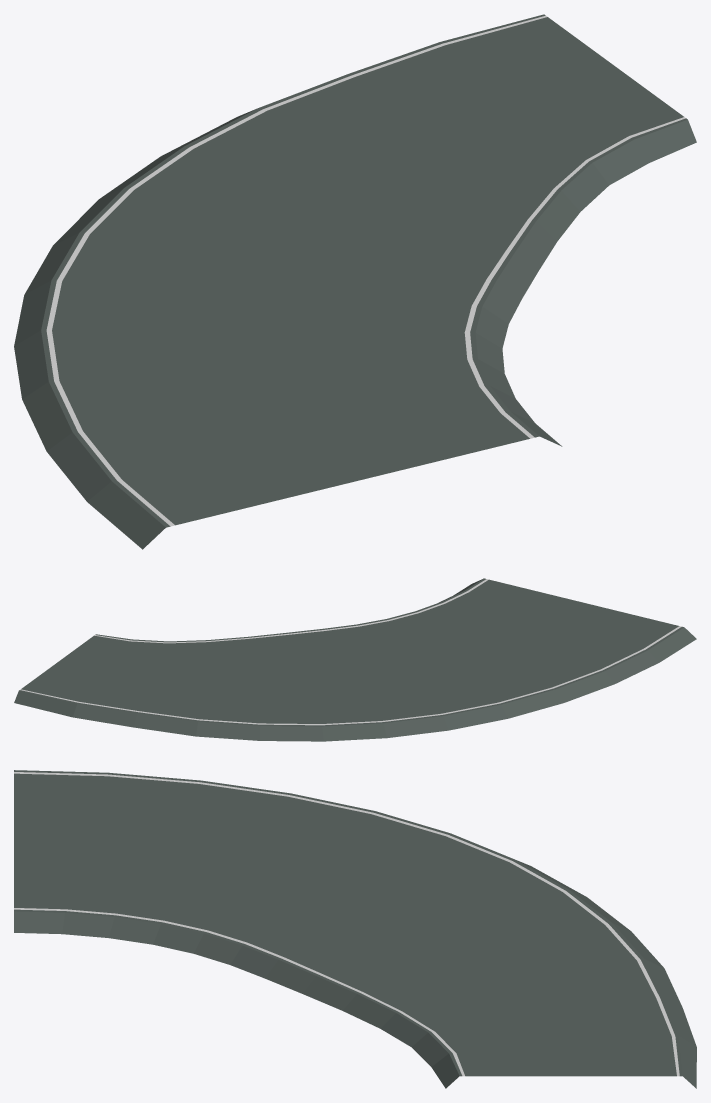
The model's file is Curve_90_Narrowing.fbx.
3 views of the same model, one above another, from view 1: azimuth 30°, elevation 25°; view 2: azimuth 150°, elevation 25°; view 3: azimuth 270°, elevation 25° (orthographic). The views are drawn at different scales.
Visible parts, largest first — view 1: Road; view 2: Road; view 3: Road.
Boxes of the visible parts, x1,y1,x2,y2 form: Road: (14,14,696,549); Road: (14,578,696,741); Road: (14,770,696,1088).
Bounding box in the file's own units: 53.5 × 1 × 49.03.
